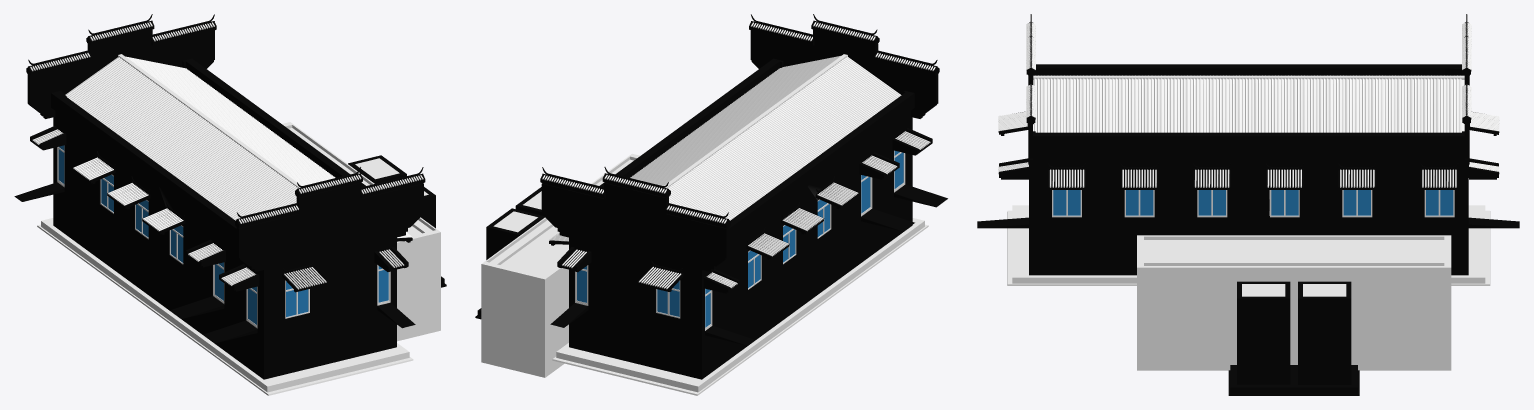
The model's file is BD_取水泵房.fbx.
The picture shows the model from 3 angles, left to right: view 1: azimuth 30°, elevation 25°; view 2: azimuth 150°, elevation 25°; view 3: azimuth 270°, elevation 25°; orthographic projection. The views are drawn at different scales.
Visible parts, largest first — view 1: BD_取水泵房; view 2: BD_取水泵房; view 3: BD_取水泵房.
Part boxes in pixels (x1,y1,x2,y2): BD_取水泵房: [14, 14, 446, 395]; BD_取水泵房: [475, 14, 947, 395]; BD_取水泵房: [977, 14, 1519, 395].
Bounding box in the file's own units: 177 × 122 × 247.
